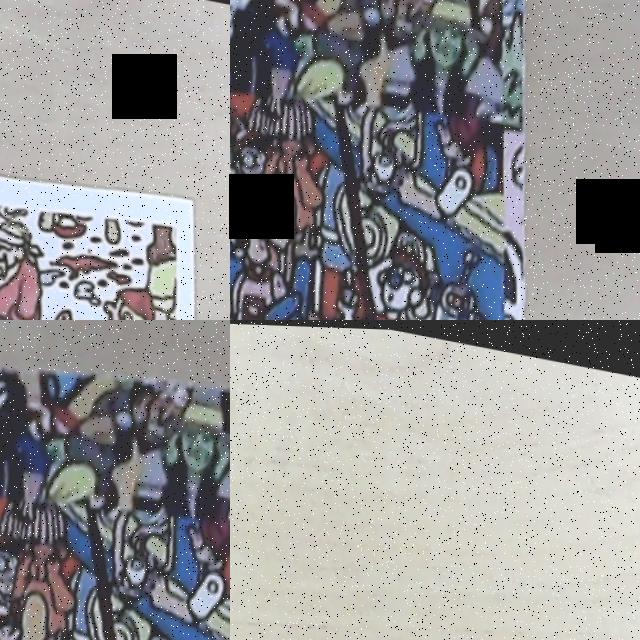waldo: (230, 105, 275, 199), (0, 509, 27, 603)
